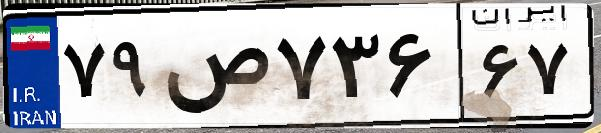3: (330, 28, 385, 110)
6: (385, 28, 445, 110), (475, 38, 525, 113)
7: (270, 28, 330, 110), (57, 26, 110, 100), (525, 38, 570, 115)
9: (110, 28, 158, 98)
ص: (158, 20, 270, 120)
